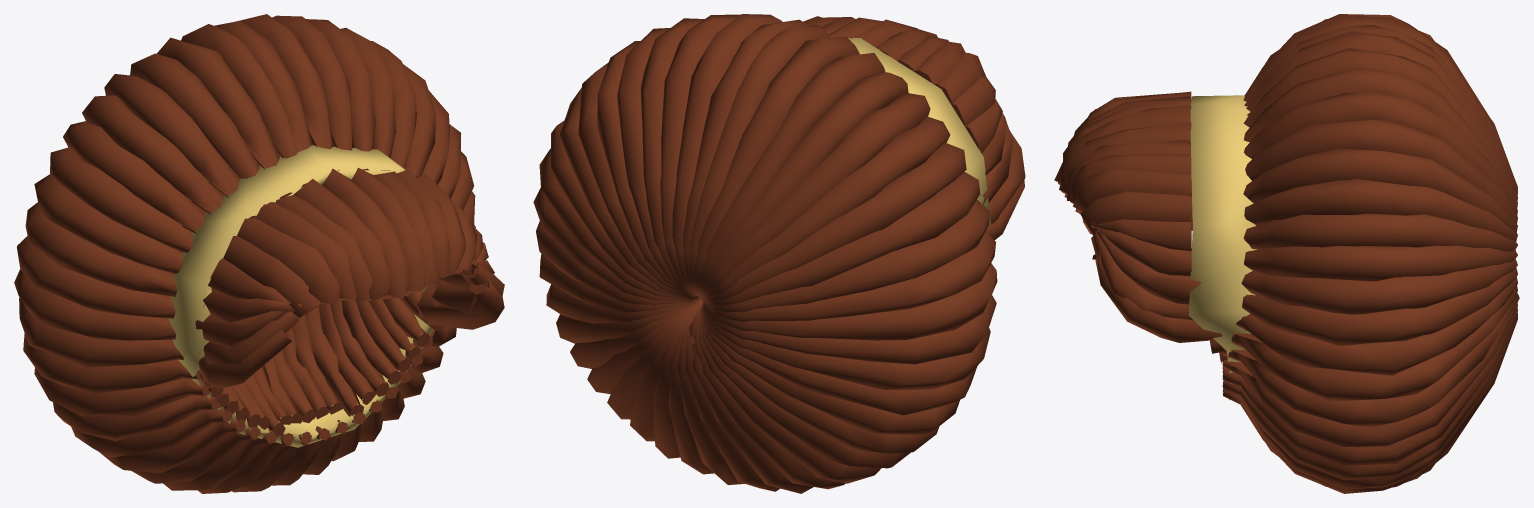
File: hair-9-9a7a3b5c.glb
The picture shows the model from 3 angles, left to right: view 1: azimuth 30°, elevation 25°; view 2: azimuth 150°, elevation 25°; view 3: azimuth 270°, elevation 25°; orthographic projection. The views are drawn at different scales.
Visible parts, largest first — view 1: hair_9.001; view 2: hair_9.001; view 3: hair_9.001.
Part boxes in pixels (box(x1,y1,x2,y2)): hair_9.001: box(14, 14, 504, 493); hair_9.001: box(533, 14, 1025, 493); hair_9.001: box(1054, 14, 1519, 493).
Size of the model in its own units: 2.77 by 2.78 by 2.68.
